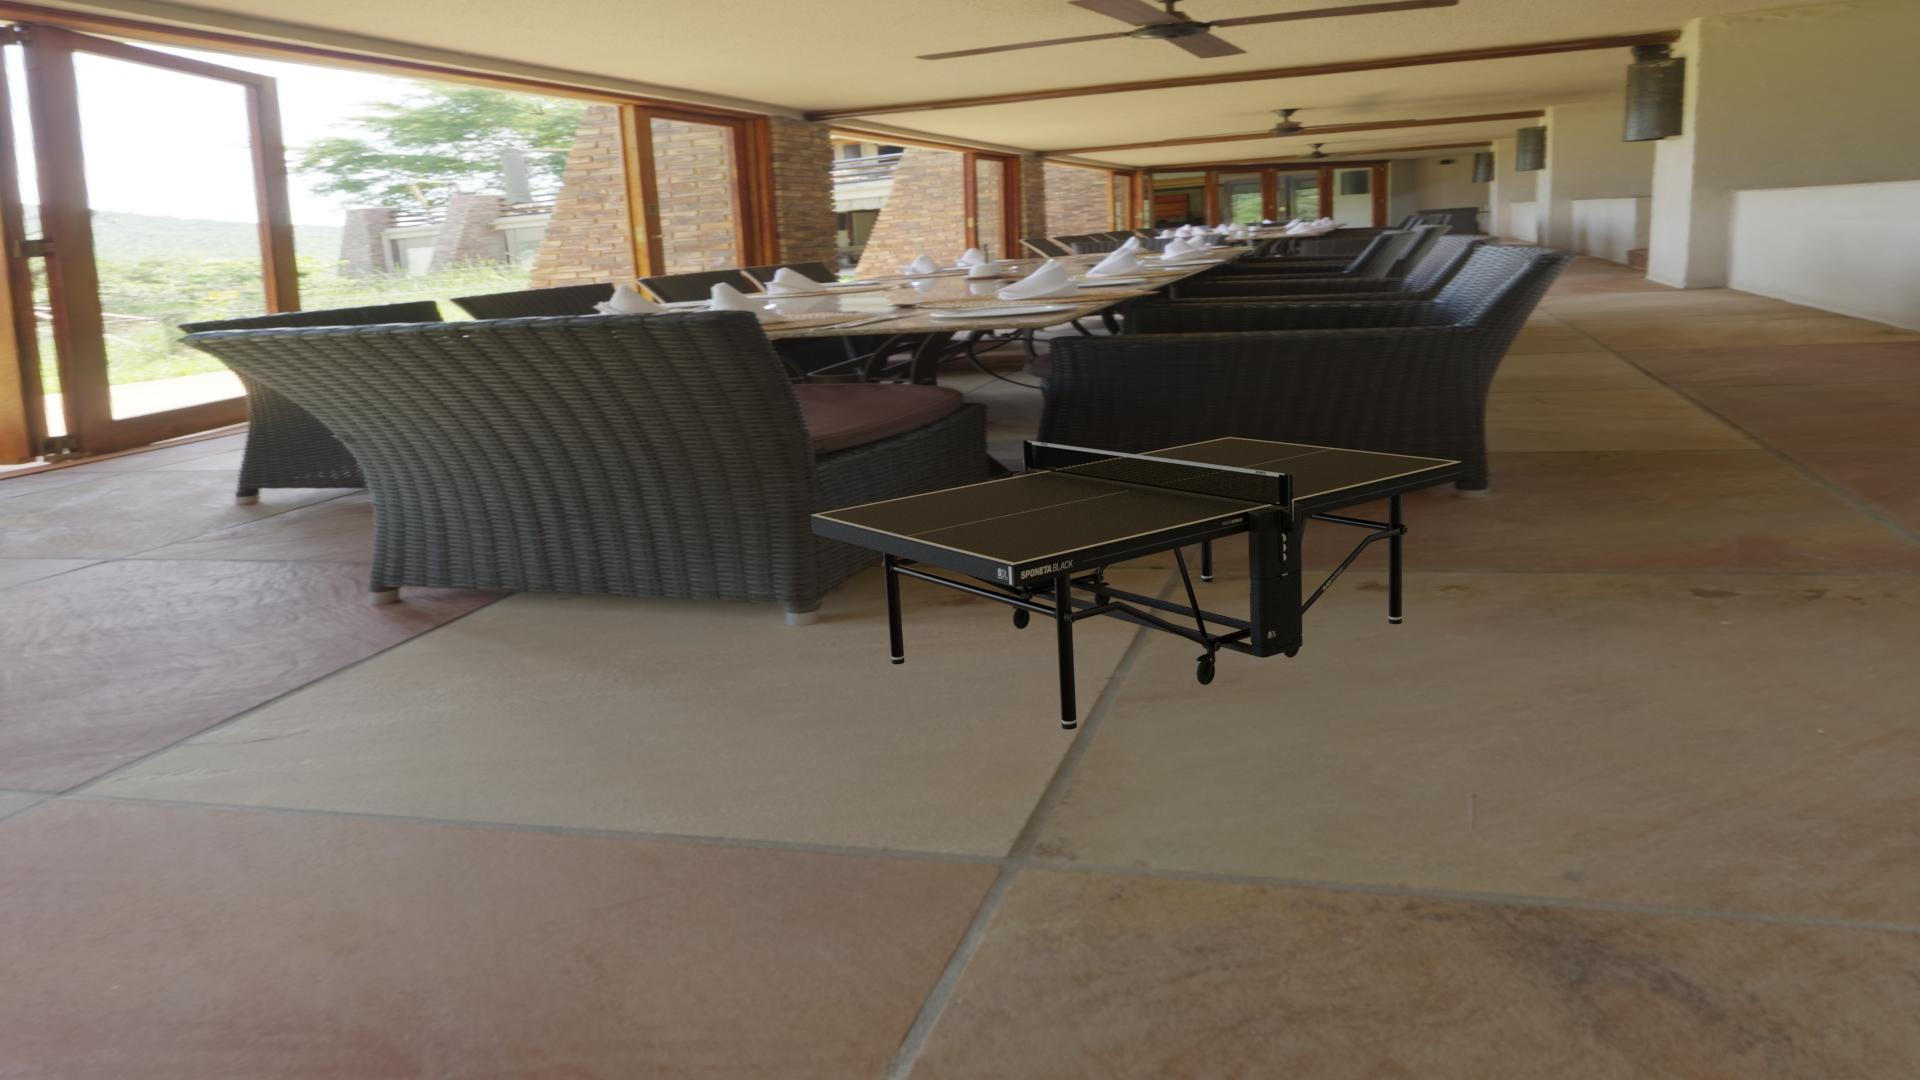table: (816, 438, 1456, 563)
